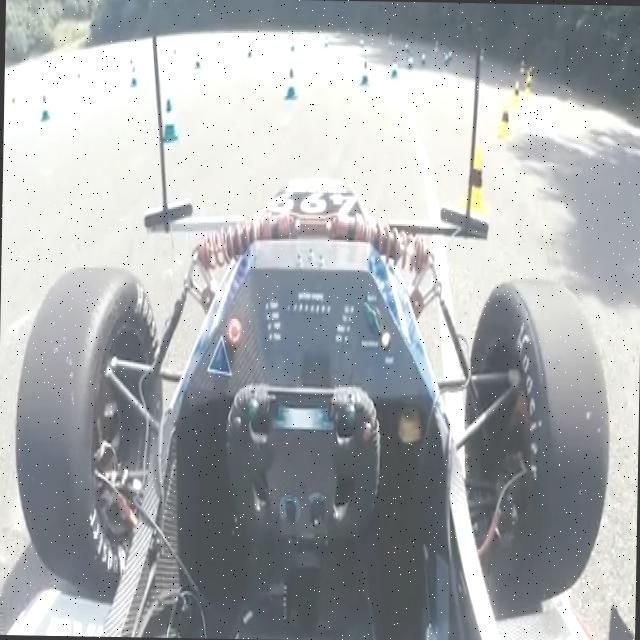blue_cone: (161, 98, 179, 145), (283, 67, 298, 101), (359, 59, 371, 88), (40, 94, 50, 122), (130, 66, 138, 88)
yellow_cone: (460, 146, 490, 222), (496, 100, 514, 140), (511, 80, 522, 108)
